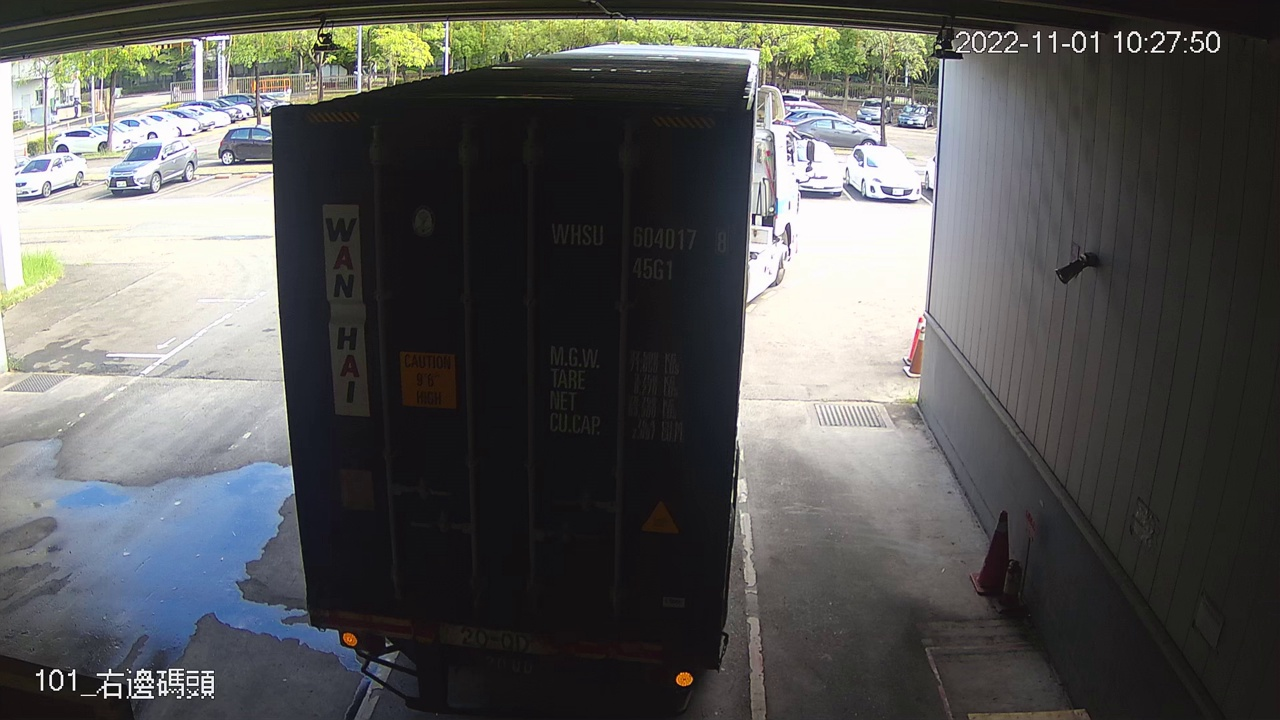container: (539, 210, 738, 291)
